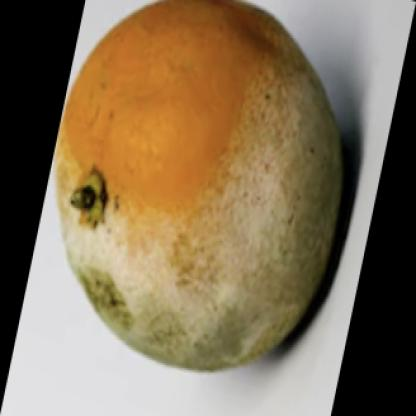rotten: (60, 1, 342, 372)
